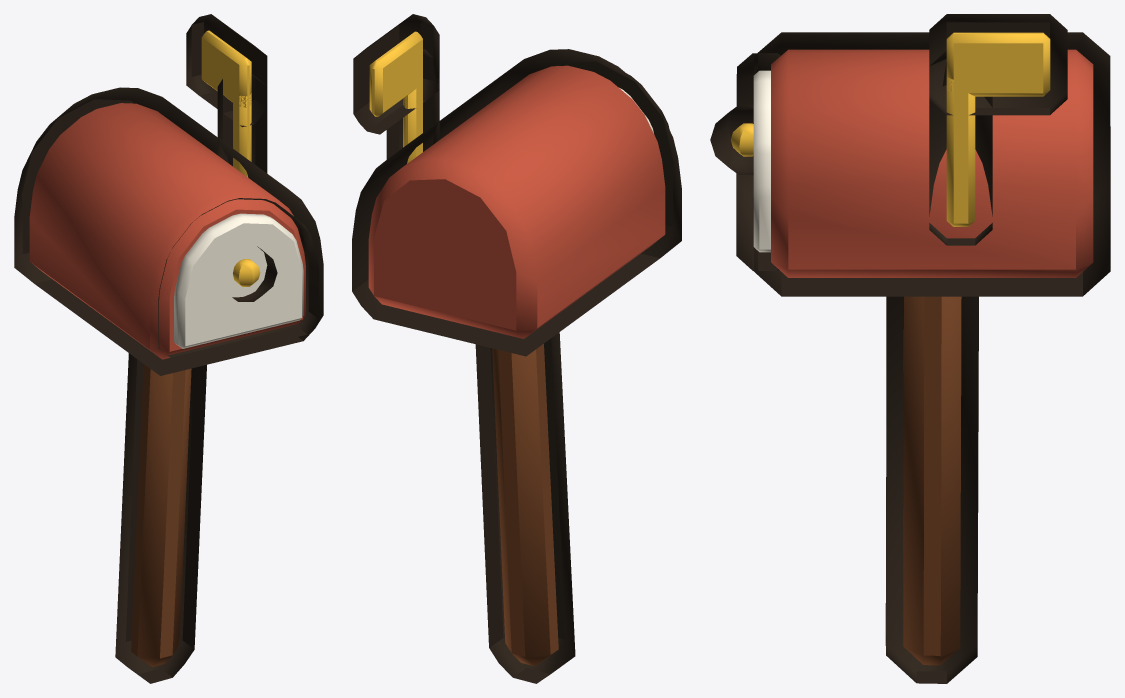
Rendered from mailbox.glb.
3 renders of one model, left to right at view 1: azimuth 30°, elevation 25°; view 2: azimuth 150°, elevation 25°; view 3: azimuth 270°, elevation 25°, orthographic. The views are drawn at different scales.
Visible parts, largest first — view 1: mailbox; view 2: mailbox; view 3: mailbox.
Boxes of the visible parts, x1=… form: mailbox: x1=14, y1=14, x2=323, y2=683; mailbox: x1=352, y1=14, x2=681, y2=683; mailbox: x1=710, y1=14, x2=1110, y2=683.
Bounding box in the file's own units: 0.4703 × 1.38 × 0.6957.
